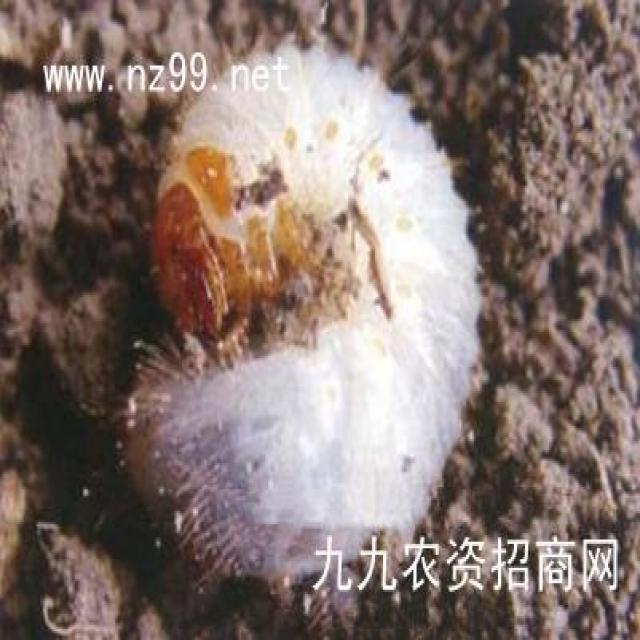Grub-Adult-: (107, 44, 495, 589)
